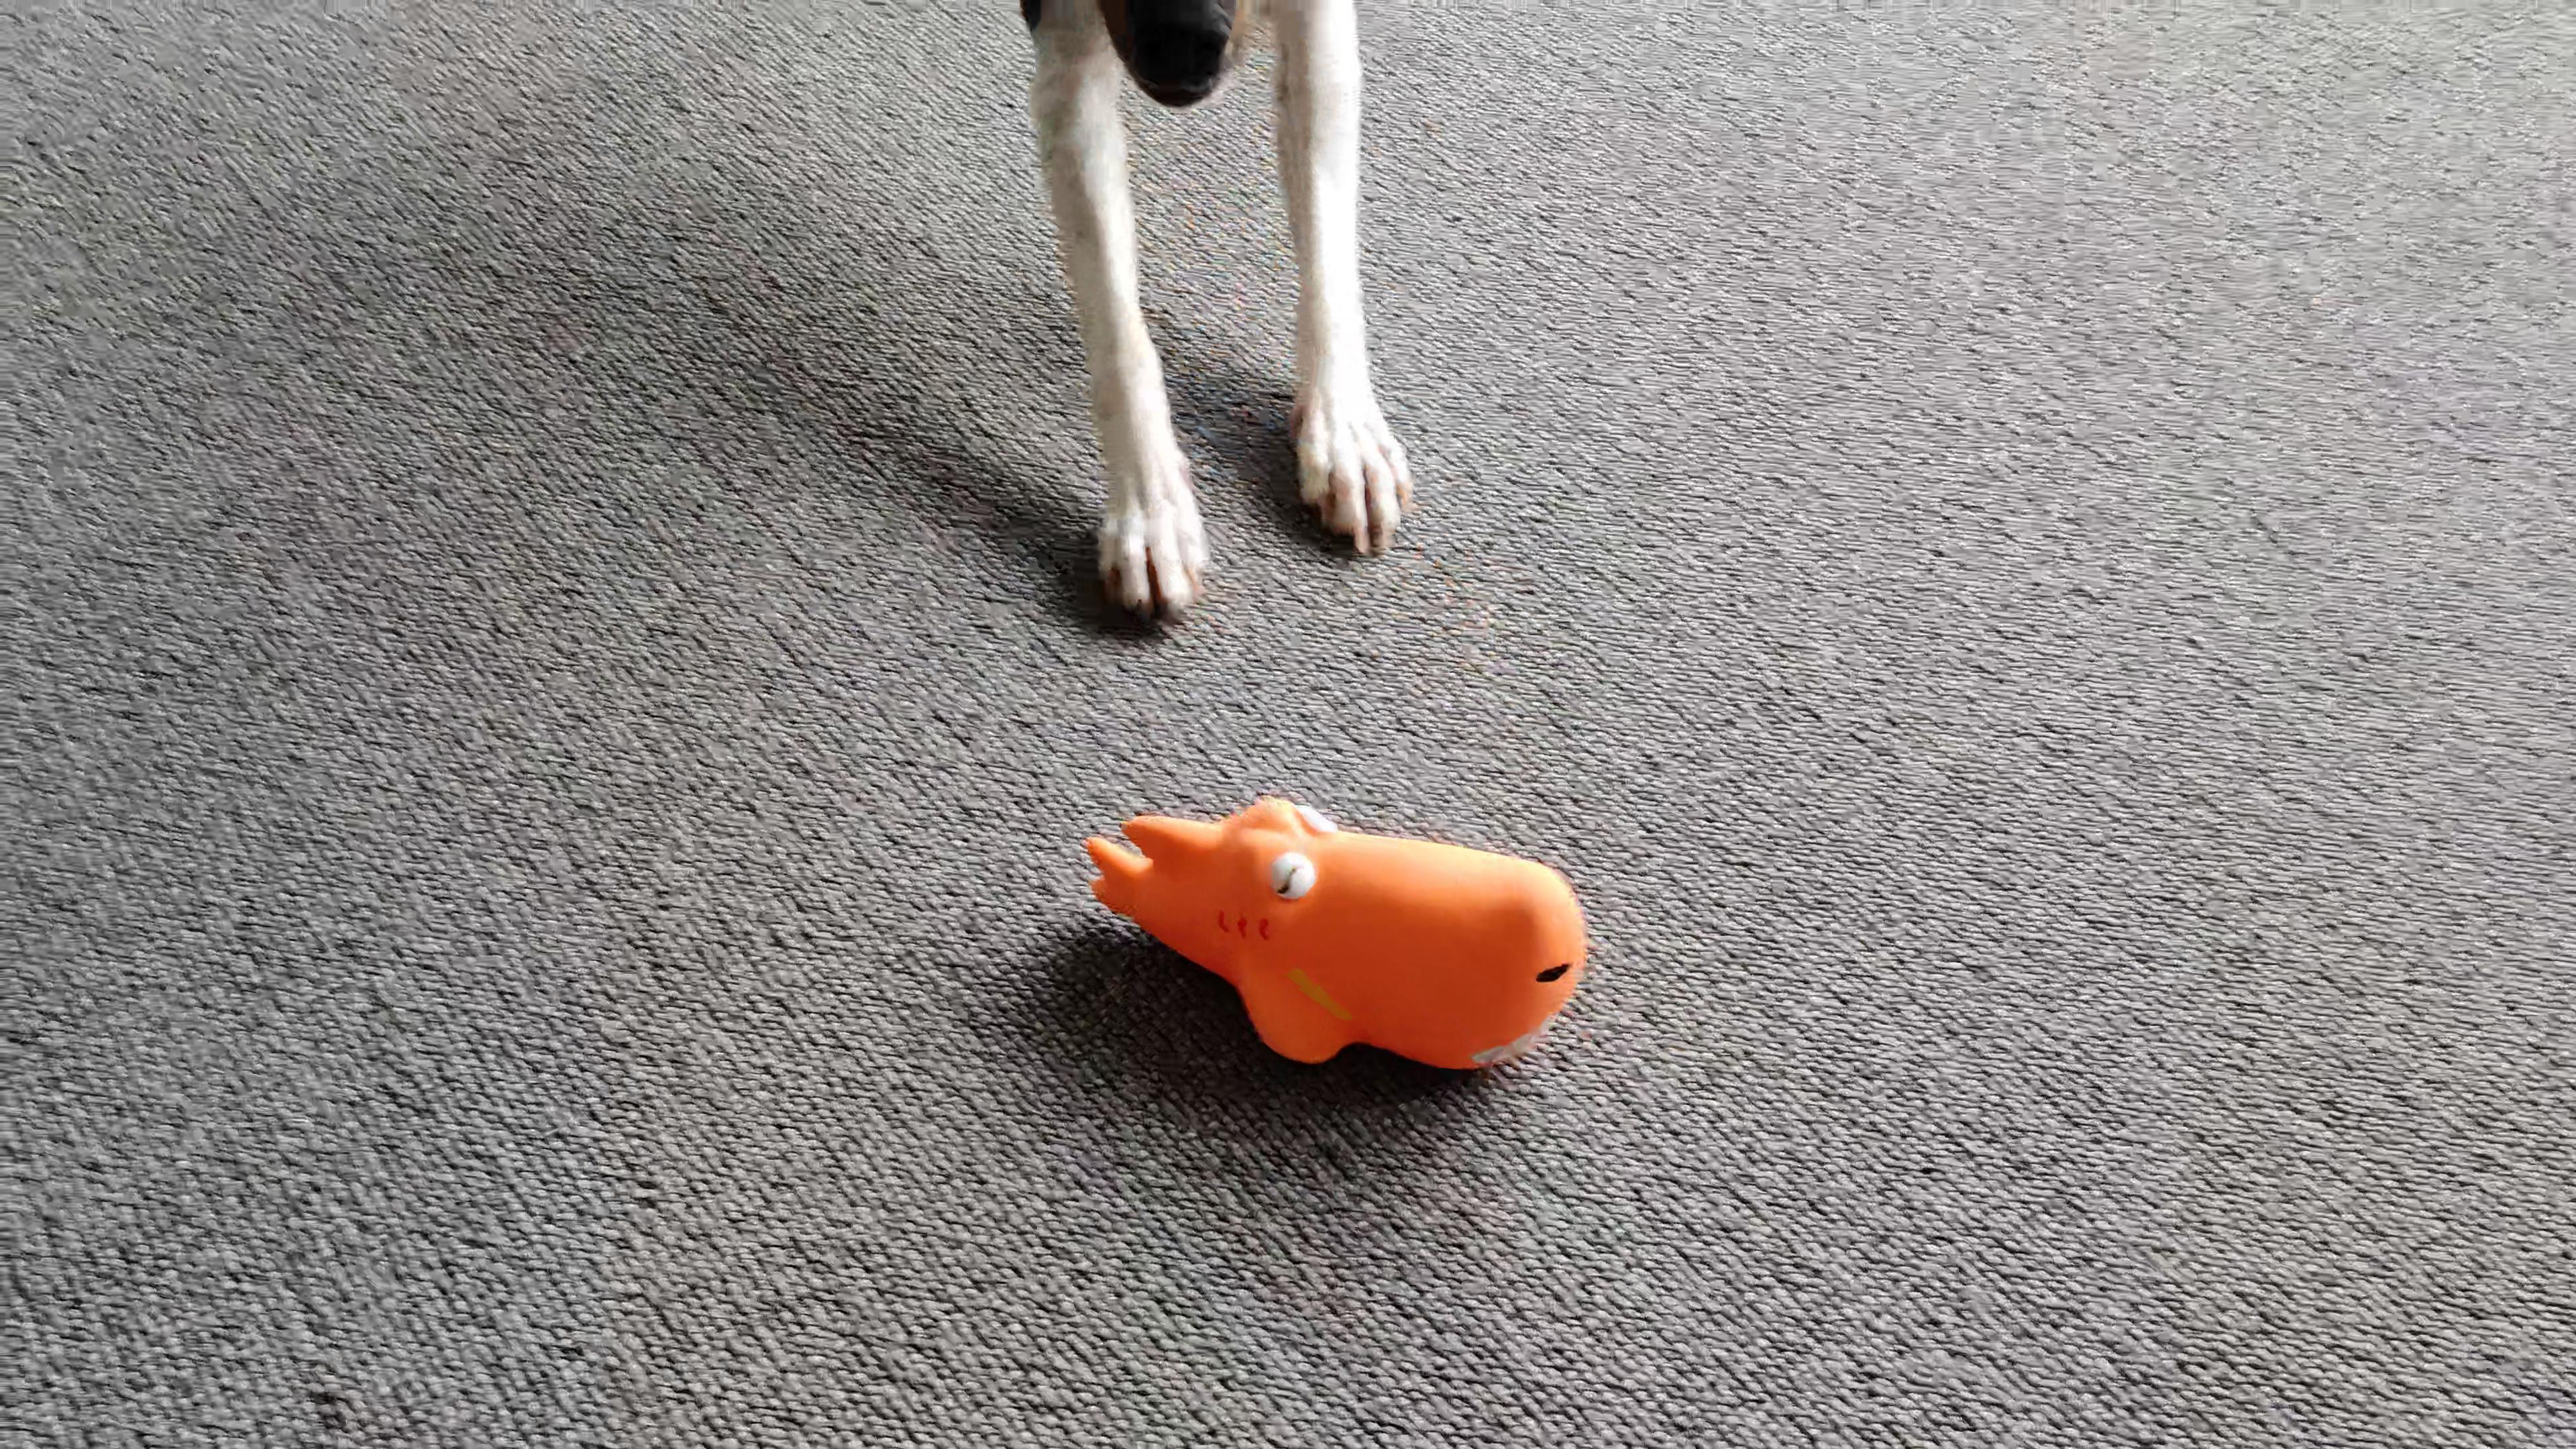Dog: (973, 0, 1454, 633)
